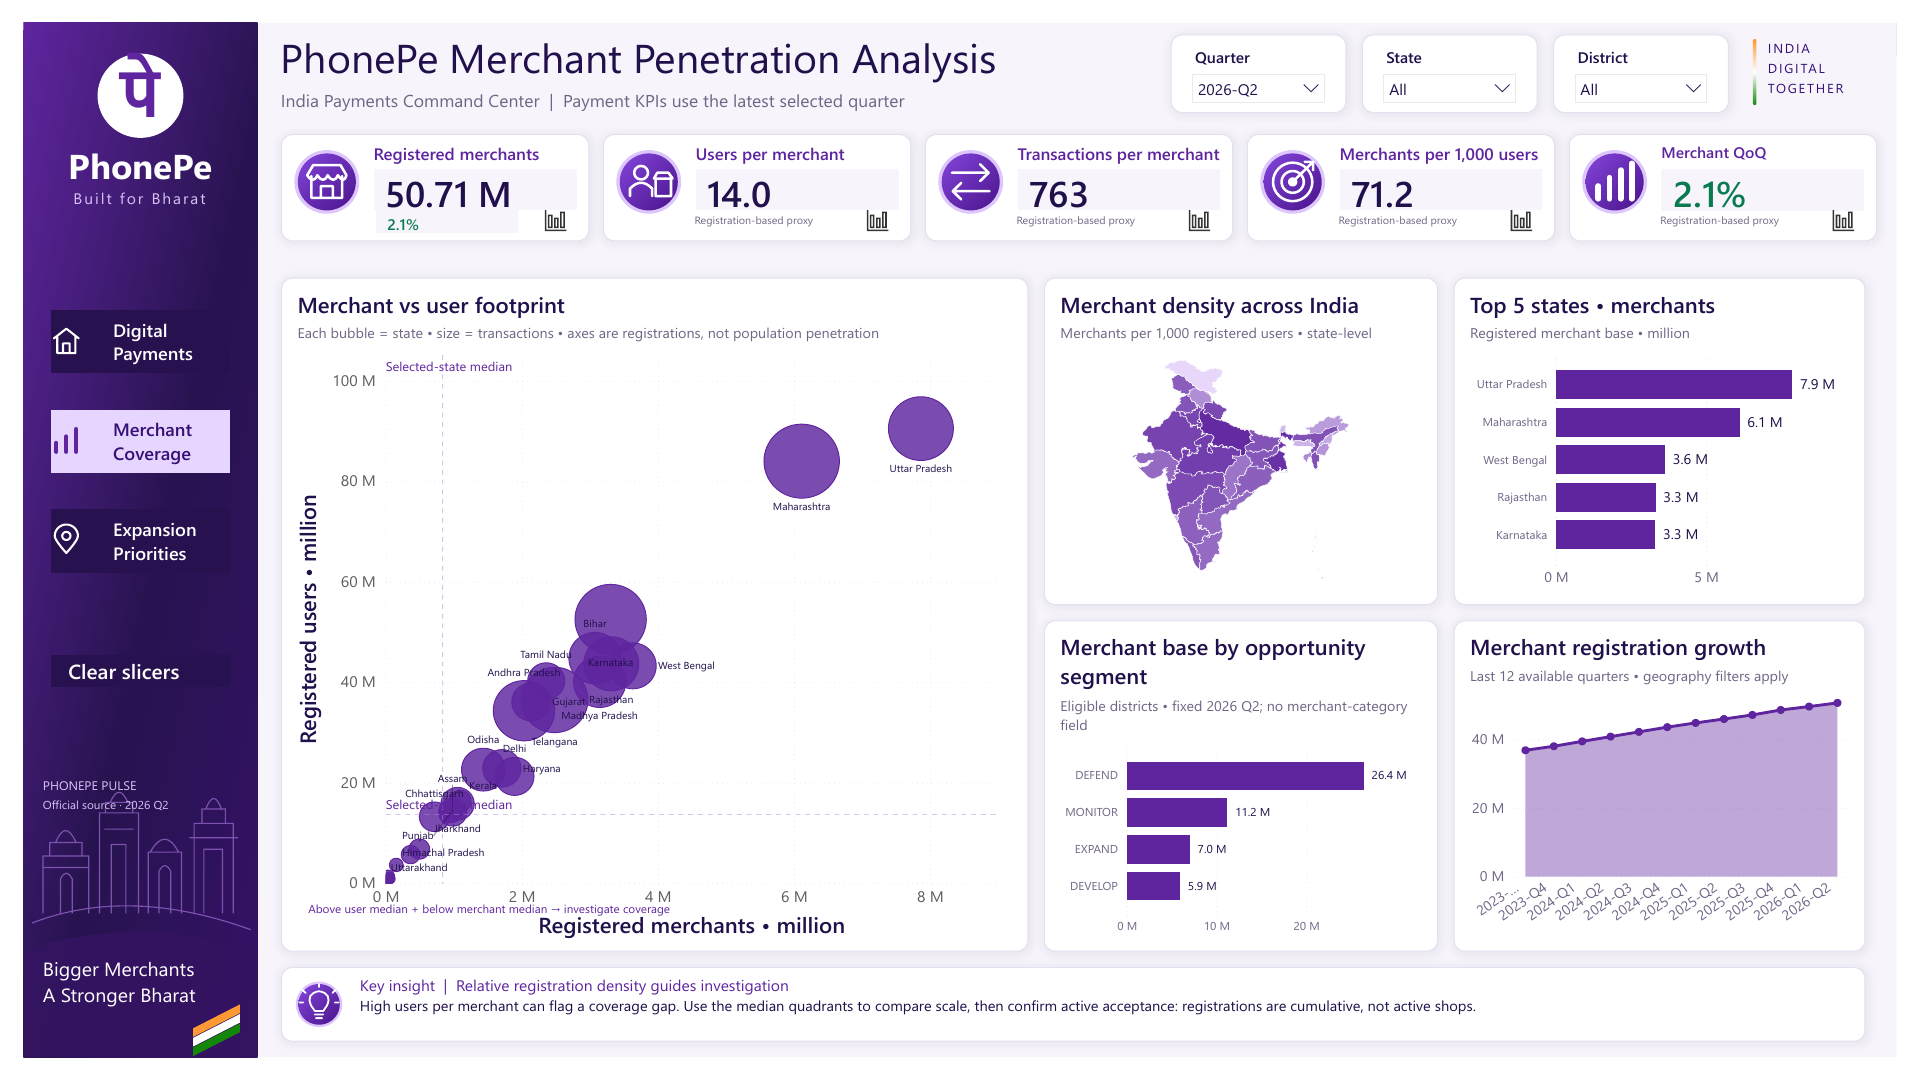

The page's visual inventory and layout, read from the dashboard file:
{"tool":"powerbi","page":{"name":"02  Merchant Penetration Analysis","canvas":[1440,900],"ordinal":1},"visuals":[{"type":"textbox","box":[24,15,1380,40],"z":14000},{"type":"textbox","box":[24,58,1380,38],"z":15000},{"type":"textbox","box":[24,865,1390,24],"z":16000},{"type":"slicer","fields":{"Values":["Periods.Quarter"]},"box":[24,102,280,80],"z":17000},{"type":"slicer","fields":{"Values":["States.State"]},"box":[324,102,430,80],"z":18000},{"type":"slicer","fields":{"Values":["Districts.District"]},"box":[774,102,642,80],"z":19000},{"type":"cardVisual","fields":{"Data":["Payments.Users per Merchant"]},"box":[24,190,338,126],"z":20000},{"type":"cardVisual","fields":{"Data":["Payments.Transactions per Merchant"]},"box":[374,190,338,126],"z":21000},{"type":"cardVisual","fields":{"Data":["Payments.Value per Merchant"]},"box":[724,190,338,126],"z":22000},{"type":"cardVisual","fields":{"Data":["Payments.Merchant QoQ"]},"box":[1074,190,338,126],"z":23000},{"type":"scatterChart","title":"Merchant density and demand growth by district","fields":{"Category":["Districts.District Key"],"Size":["Payments.Registered User Base"],"X":["Payments.Users per Merchant"],"Y":["Payments.Transaction YoY"]},"box":[24,330,710,330],"z":24000},{"type":"clusteredBarChart","title":"Registered merchants per 1,000 users by state","fields":{"Category":["States.State"],"Y":["Payments.Merchants per 1000 Users"]},"box":[750,330,666,330],"z":25000},{"type":"tableEx","title":"District comparison — select a state to focus the table","fields":{"Values":["Districts.State","Districts.District","Payments.Users per Merchant","Payments.Transactions per Merchant","Payments.Merchant QoQ","Payments.User QoQ"]},"box":[24,676,1392,164],"z":26000}]}

Visuals, with their boxes on the page's 1440x900 design canvas (x1, y1, x2, y2). These are canvas units, not pixel positions in the 1920x1080 screenshot, which may show the page scaled, cropped or inside an application window:
textbox: box=[24, 15, 1404, 55]
textbox: box=[24, 58, 1404, 96]
textbox: box=[24, 865, 1414, 889]
slicer - Periods.Quarter: box=[24, 102, 304, 182]
slicer - States.State: box=[324, 102, 754, 182]
slicer - Districts.District: box=[774, 102, 1416, 182]
cardVisual - Payments.Users per Merchant: box=[24, 190, 362, 316]
cardVisual - Payments.Transactions per Merchant: box=[374, 190, 712, 316]
cardVisual - Payments.Value per Merchant: box=[724, 190, 1062, 316]
cardVisual - Payments.Merchant QoQ: box=[1074, 190, 1412, 316]
"Merchant density and demand growth by district" scatterChart: box=[24, 330, 734, 660]
"Registered merchants per 1,000 users by state" clusteredBarChart: box=[750, 330, 1416, 660]
"District comparison — select a state to focus the table" tableEx: box=[24, 676, 1416, 840]
